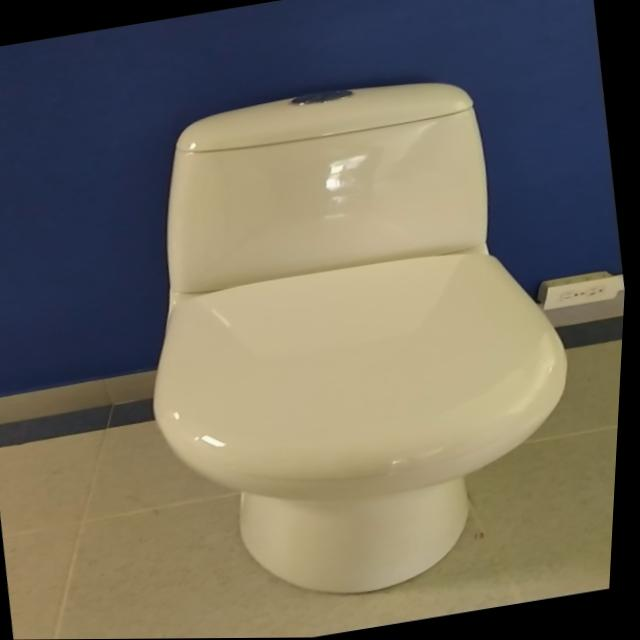toilet: (102, 56, 614, 625)
